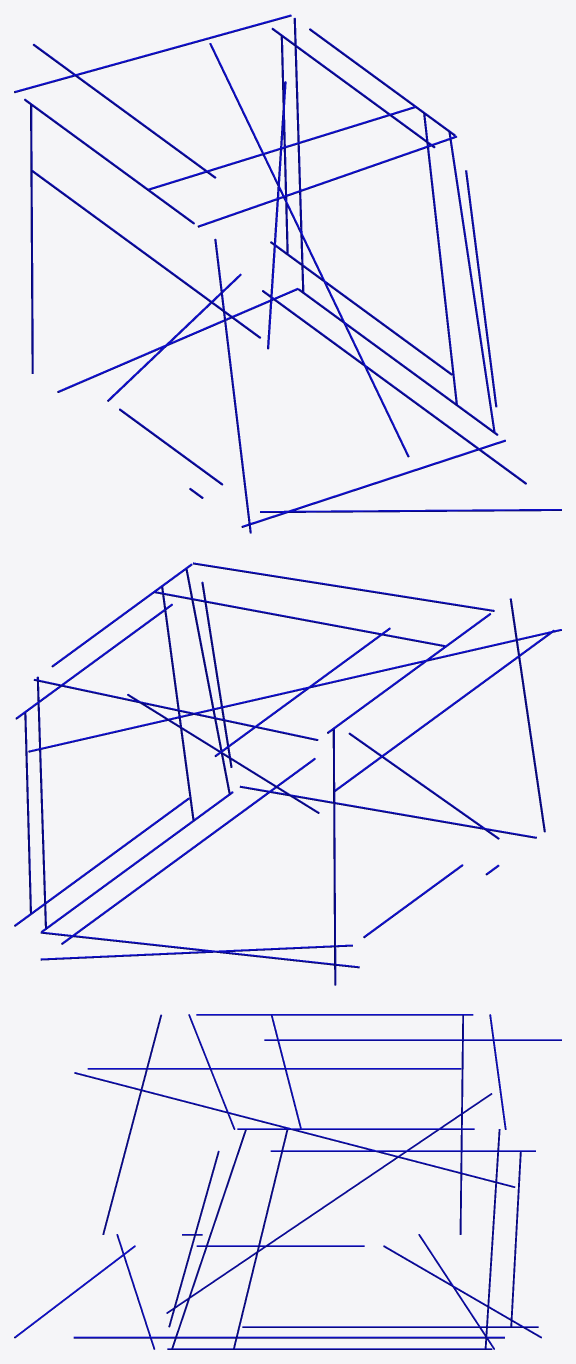
File: corrected_3d_strokes.glb
3 views of the same model, one above another, from view 1: azimuth 30°, elevation 25°; view 2: azimuth 150°, elevation 25°; view 3: azimuth 270°, elevation 25° (orthographic). The views are drawn at different scales.
Visible parts, largest first — view 1: world; view 2: world; view 3: world.
Boxes of the visible parts, <box> form: world: <box>14,14,561,533</box>; world: <box>14,562,561,985</box>; world: <box>14,1014,561,1349</box>.
Bounding box in the file's own units: 5.8 × 5.2 × 11.67.
